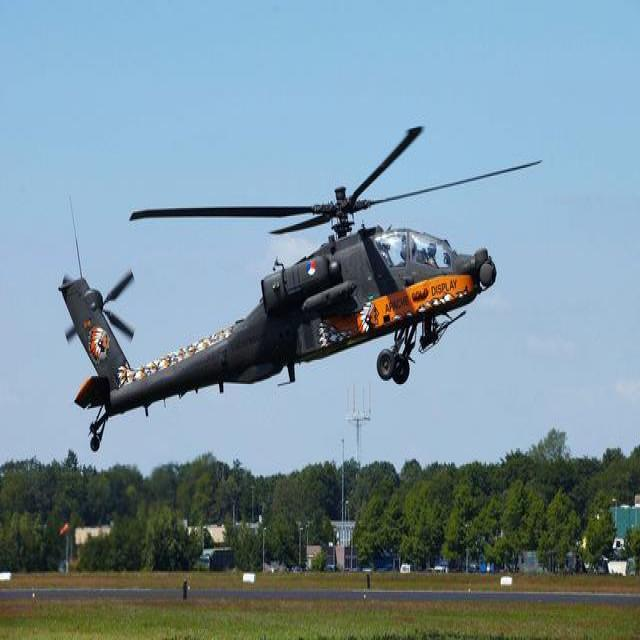MIL_HELO: (31, 118, 529, 483)
